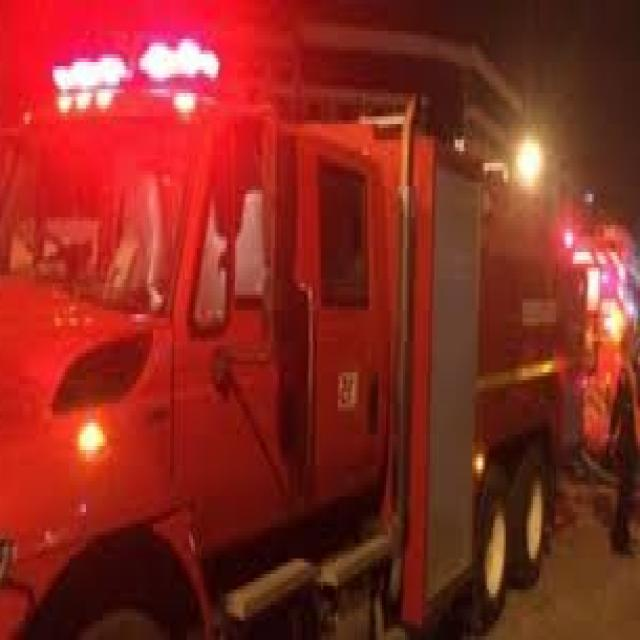emergency: (0, 42, 580, 640)
